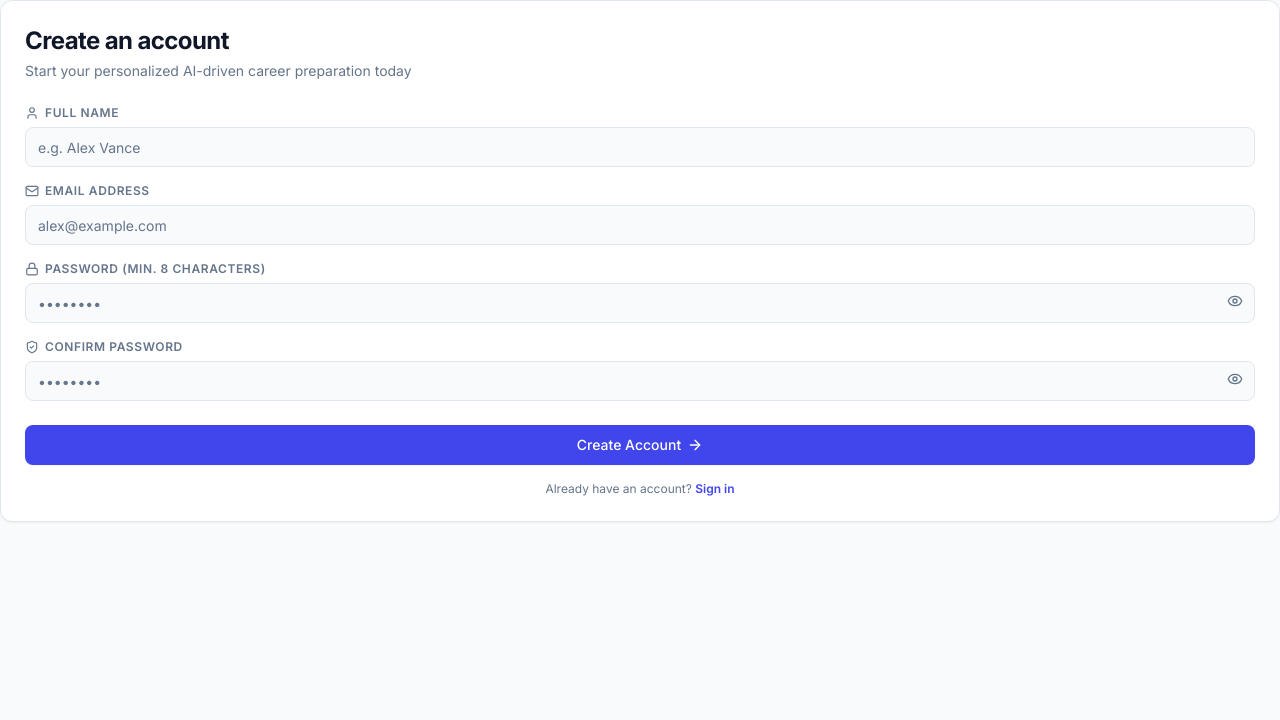
Test: RegisterScreen › displays duplicate email error from API gracefully
In the field with id "name": (640, 147) [25, 127, 1255, 167], type "Alex Vance"
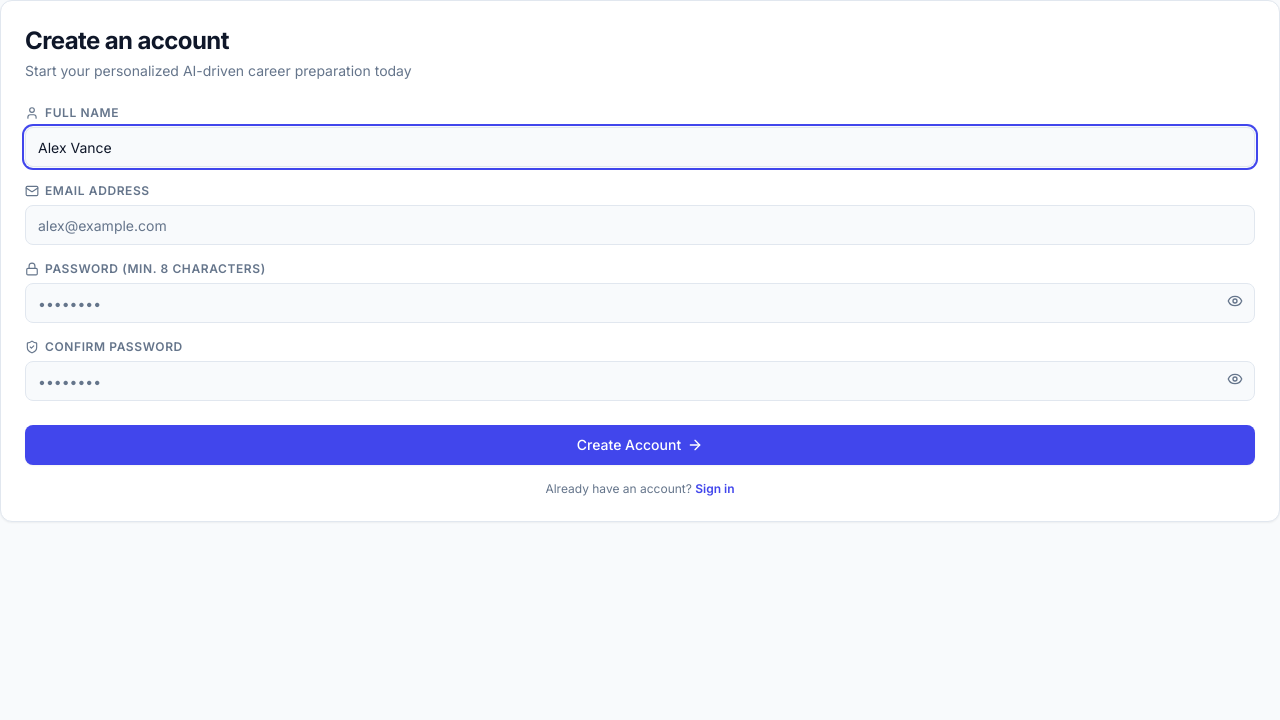
In the field with id "email": (640, 225) [25, 205, 1255, 245], type "existing@example.com"
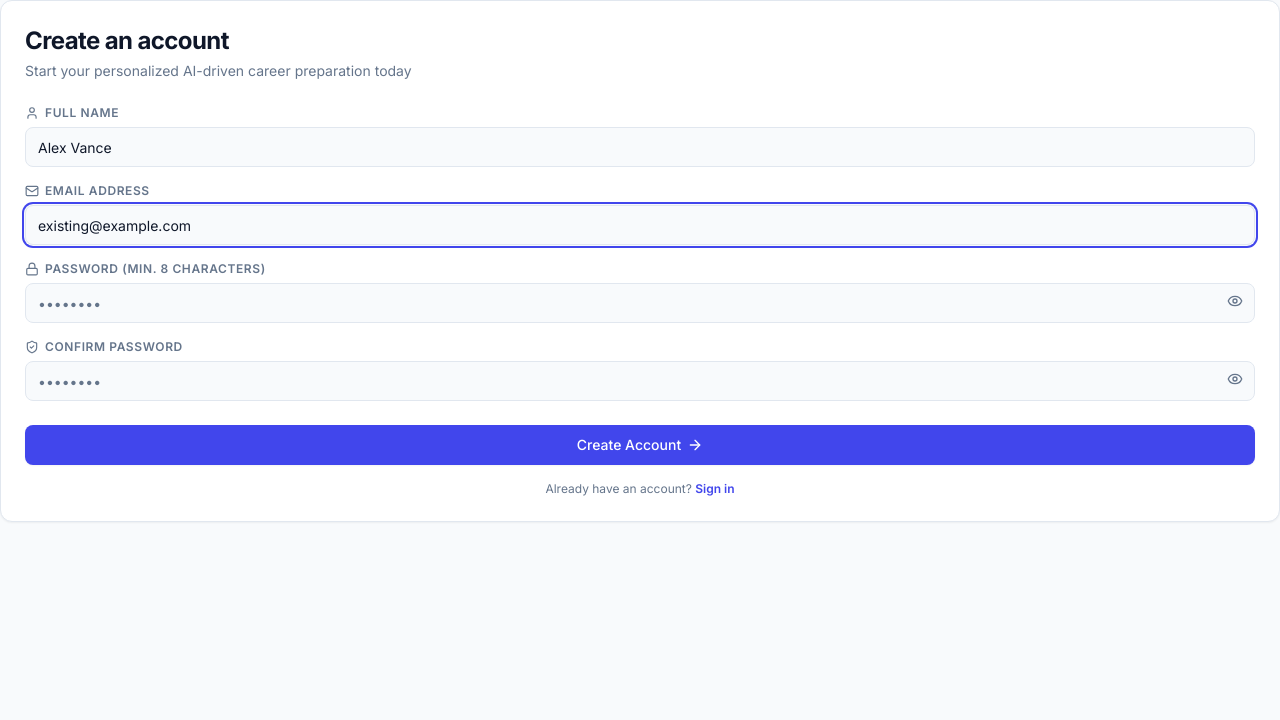
In the password field labelled "Password (min. 8 characters)": (640, 303) [25, 283, 1255, 323], type "Password123!"
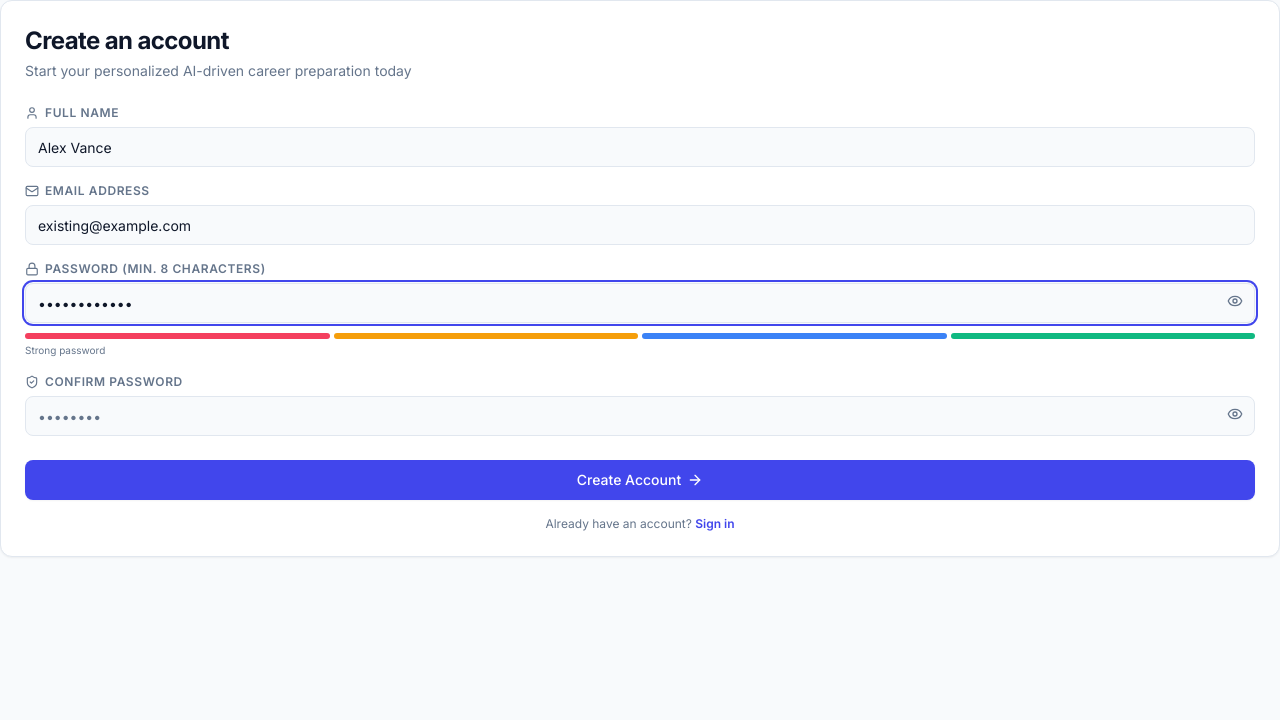
In the password field with id "confirmPassword": (640, 416) [25, 396, 1255, 436], type "Password123!"
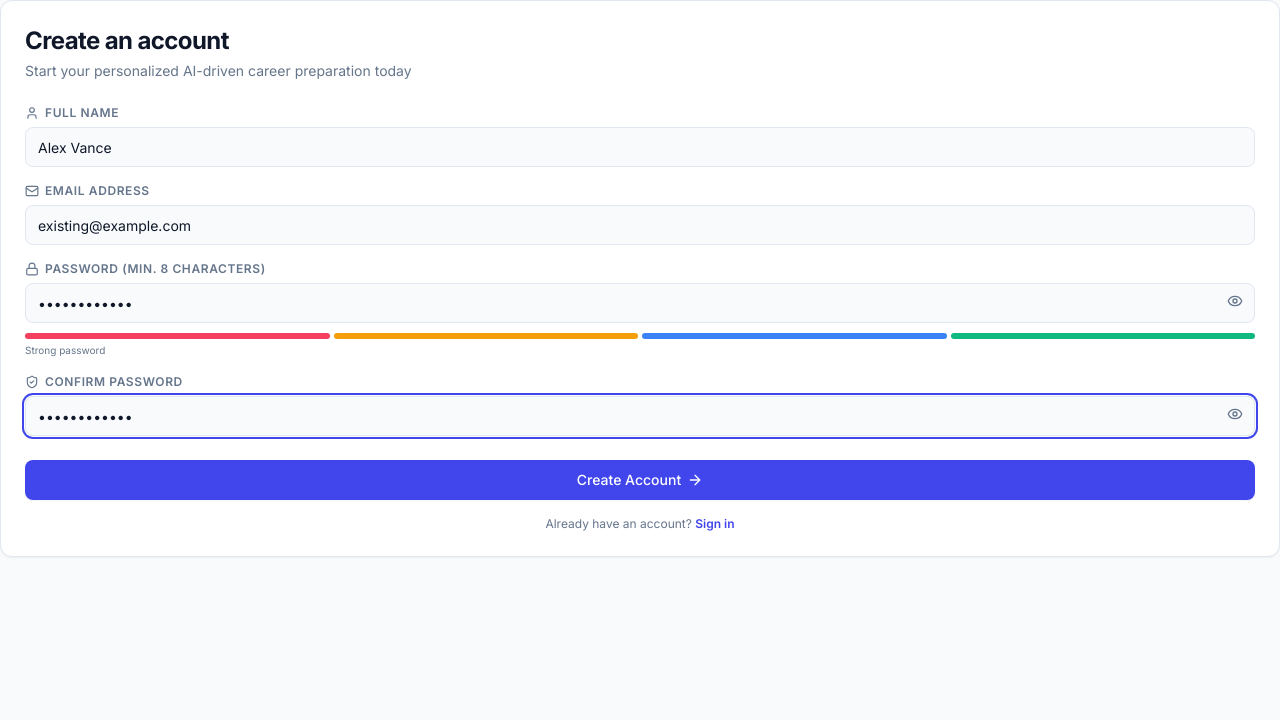
Click the button "Create Account": (640, 480) [25, 460, 1255, 500]
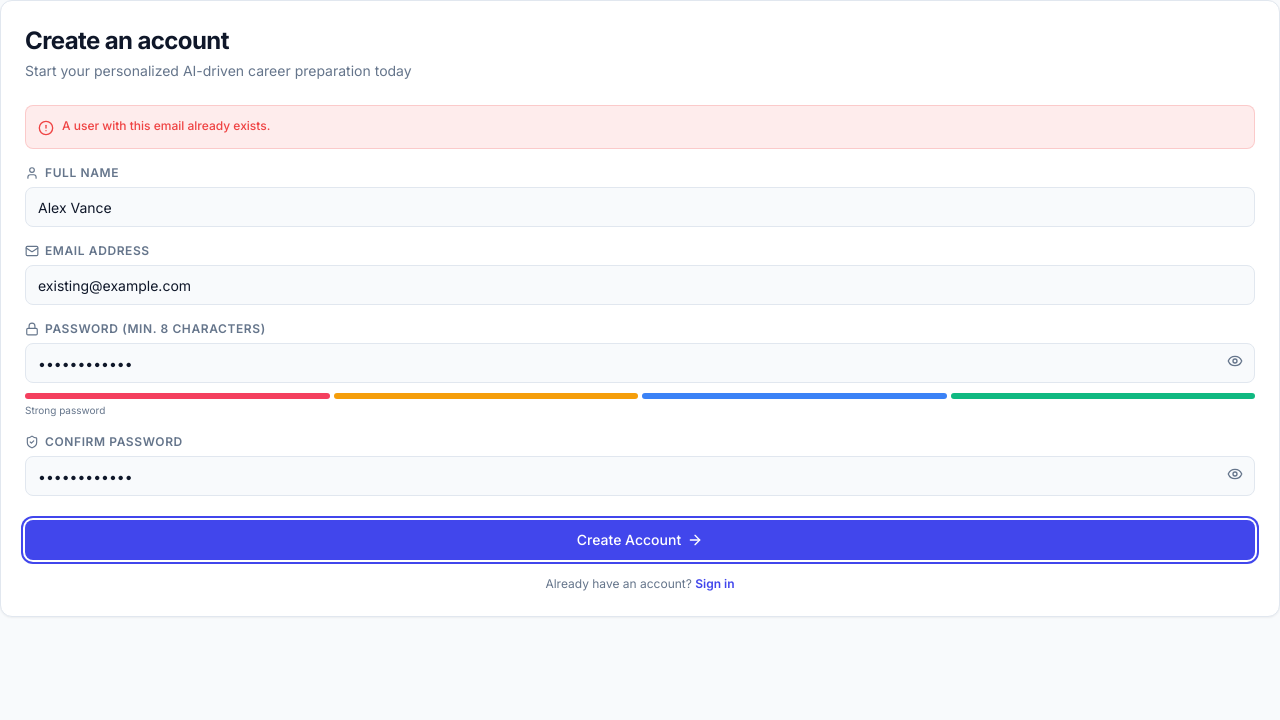
Result: the message shows "A user with this email already exists" at [62, 118, 270, 133]
